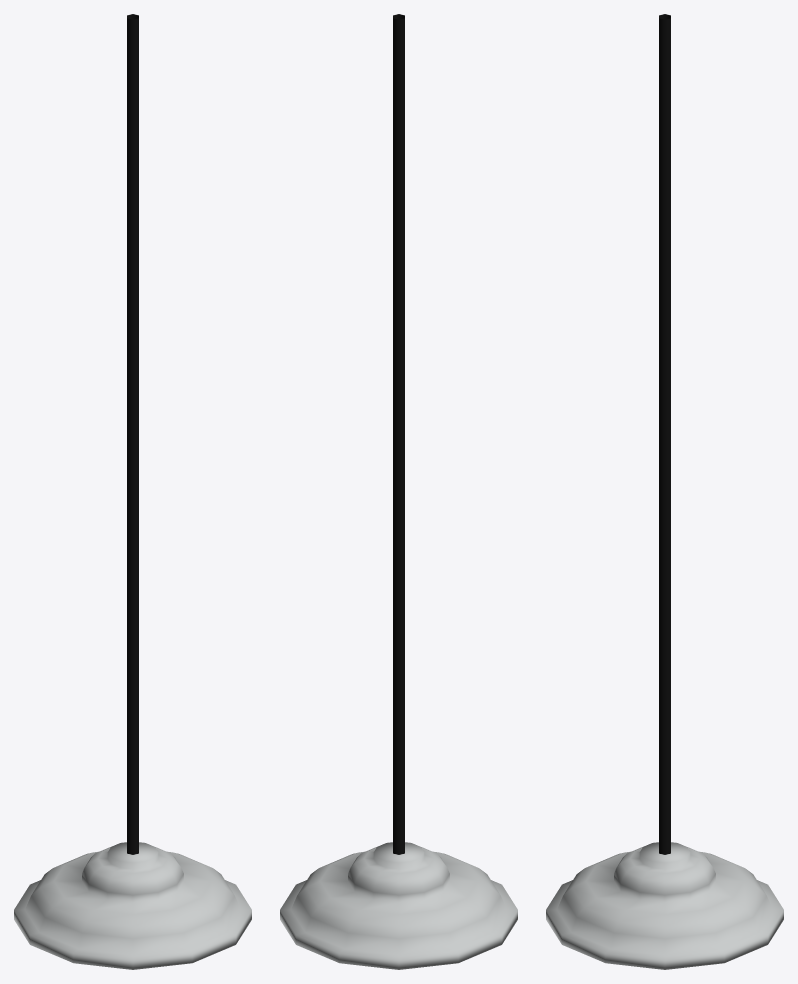
File: Light_2.fbx
The picture shows the model from 3 angles, left to right: view 1: azimuth 30°, elevation 25°; view 2: azimuth 150°, elevation 25°; view 3: azimuth 270°, elevation 25°; orthographic projection.
Parts seen in each view (by area): view 1: pCube815.002; view 2: pCube815.002; view 3: pCube815.002.
Part boxes in pixels (x1,y1,x2,y2): pCube815.002: (14,14,251,969); pCube815.002: (280,14,517,969); pCube815.002: (546,14,783,969).
Bounding box in the file's own units: 0.3425 × 1.49 × 0.3425.
1 material, 1 textured.
